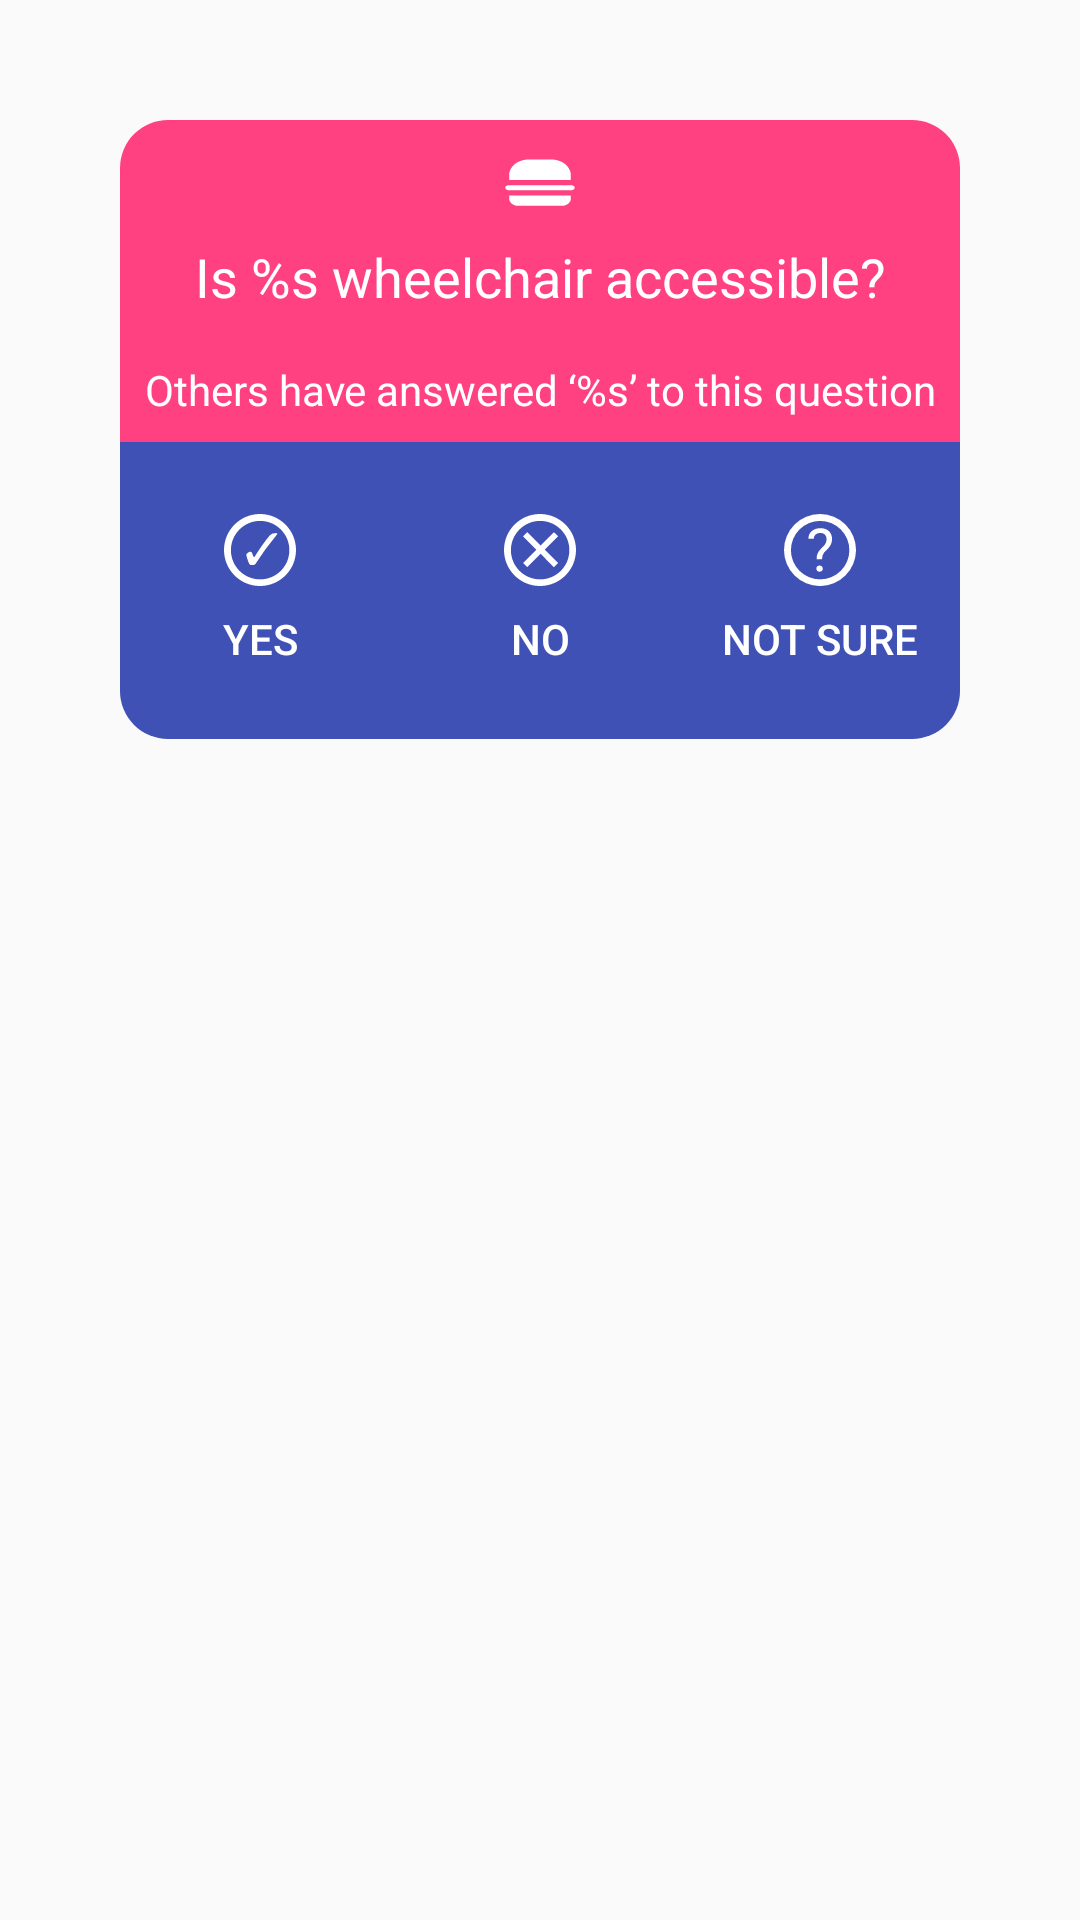

Named icons in this screenshot (1080px x 1920px) and their centers, (x=x, y=y):
fast food: (x=540, y=182)
